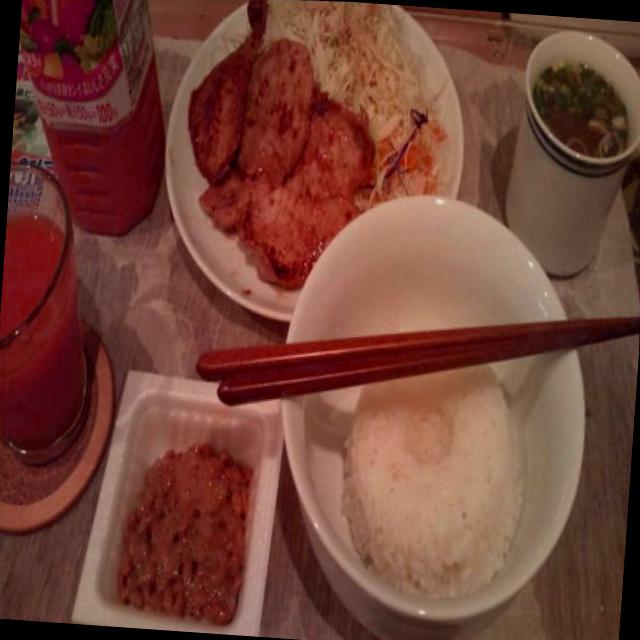Rice: (340, 366, 533, 597)
